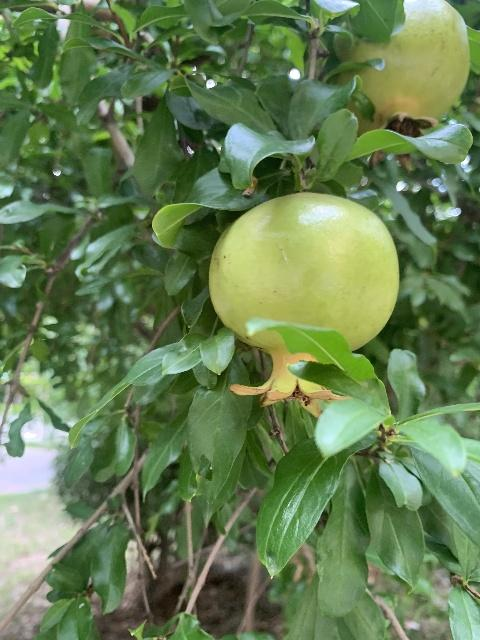mid-growth: (207, 191, 400, 417), (330, 0, 470, 172)
